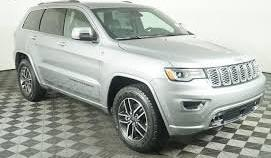SUV: (16, 3, 265, 151)
